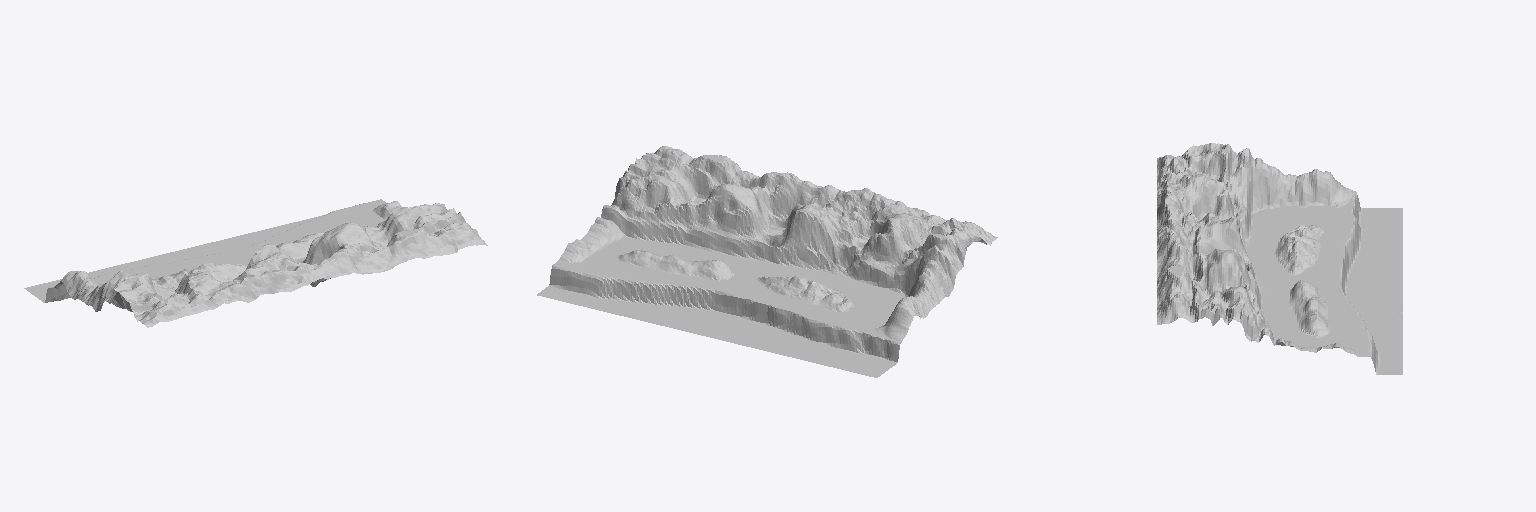
File: Terrain 1_8.obj
3 views of the same model, side by side, from view 1: azimuth 30°, elevation 25°; view 2: azimuth 150°, elevation 25°; view 3: azimuth 270°, elevation 25° (orthographic).
Bounding box in the file's own units: 2000 × 400 × 1250.